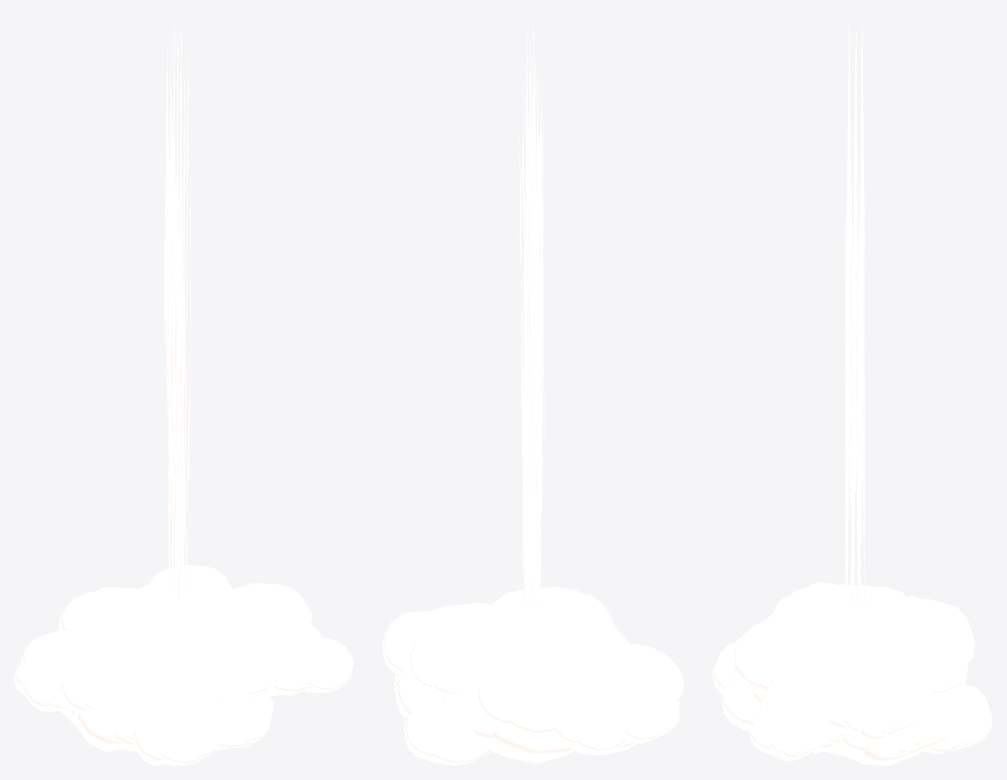
File: clouds.glb
3 views of the same model, side by side, from view 1: azimuth 30°, elevation 25°; view 2: azimuth 150°, elevation 25°; view 3: azimuth 270°, elevation 25° (orthographic). The views are drawn at different scales.
Visible parts, largest first — view 1: Cloud1, Cloud2, Sea, Cloud0; view 2: Cloud2, Cloud0, Sea, Cloud1; view 3: Cloud0, Cloud1, Sea, Cloud2.
Part boxes in pixels (box(x1,y1,x2,y2)): Cloud1: box(19, 565, 351, 765); Cloud2: box(14, 568, 353, 765); Sea: box(164, 19, 190, 600); Cloud0: box(22, 565, 352, 758); Cloud2: box(382, 591, 683, 765); Cloud0: box(383, 589, 674, 760); Sea: box(518, 18, 544, 614); Cloud1: box(383, 586, 672, 757); Cloud0: box(712, 585, 992, 765); Cloud1: box(717, 584, 974, 758); Sea: box(845, 18, 864, 608); Cloud2: box(736, 582, 989, 756).
Bounding box in the file's own units: 16.81 × 39.09 × 14.05.
Materials: 2 (1 with a texture image).
